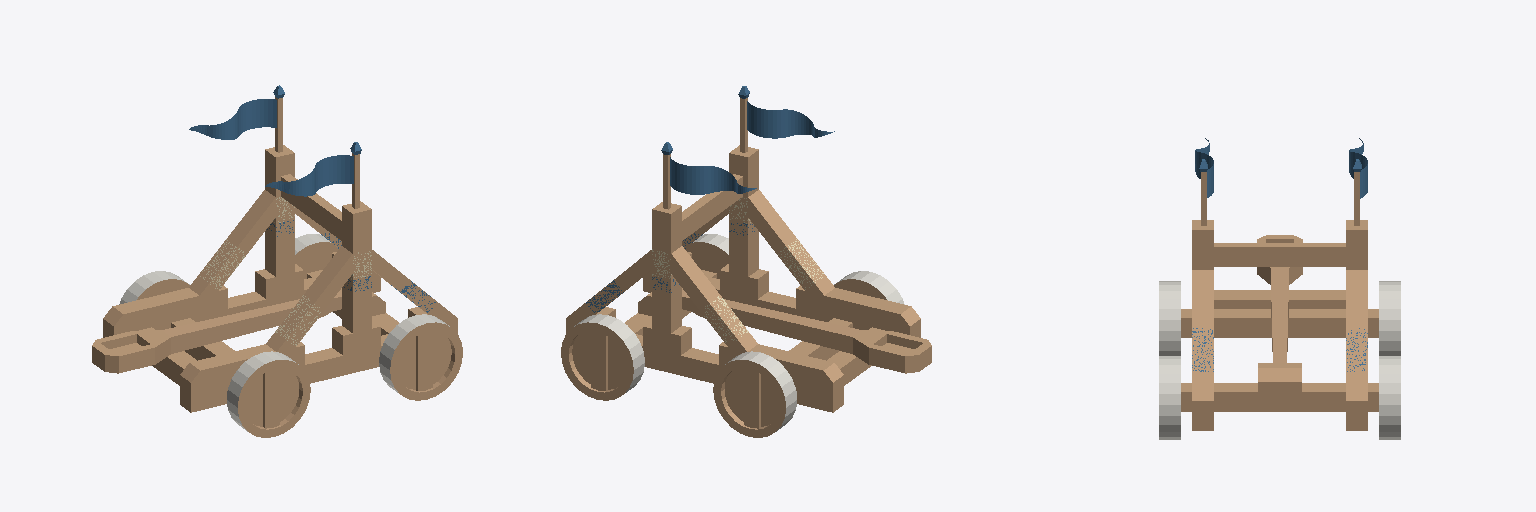
Rendered from siegeCatapult.obj.
3 views of the same model, side by side, from view 1: azimuth 30°, elevation 25°; view 2: azimuth 150°, elevation 25°; view 3: azimuth 270°, elevation 25° (orthographic).
Visible parts, largest first — view 1: body 6, catapult 4, wheelBackRight 8, wheelFrontRight 11, flag 22, flag 23, wheelFrontLeft 11, wheelBackLeft 8; view 2: body 6, catapult 4, wheelBackLeft 8, wheelFrontLeft 11, flag 22, flag 23, wheelFrontRight 11, wheelBackRight 8; view 3: body 6, catapult 4, wheelFrontLeft 11, wheelFrontRight 11, wheelBackLeft 8, wheelBackRight 8, flag 22, flag 23.
Part boxes in pixels (x1,y1,x2,y2): body 6: (103,145,457,412); catapult 4: (92,290,341,373); wheelBackRight 8: (227,351,310,437); wheelFrontRight 11: (379,314,462,400); flag 22: (189,85,284,152); flag 23: (265,142,361,208); wheelFrontLeft 11: (295,234,338,318); wheelBackLeft 8: (119,271,189,304); body 6: (566,145,920,412); catapult 4: (682,290,931,373); wheelBackLeft 8: (713,351,796,437); wheelFrontLeft 11: (561,314,644,400); flag 22: (661,142,756,209); flag 23: (738,86,834,152); wheelFrontRight 11: (685,234,728,318); wheelBackRight 8: (834,271,904,304); body 6: (1181,220,1378,430); catapult 4: (1257,235,1302,362); wheelFrontLeft 11: (1379,356,1400,439); wheelFrontRight 11: (1159,356,1180,439); wheelBackLeft 8: (1379,281,1400,355); wheelBackRight 8: (1159,281,1180,355); flag 22: (1349,138,1367,225); flag 23: (1195,138,1213,225).
Bounding box in the file's own units: 17.35 × 13.3 × 11.57.